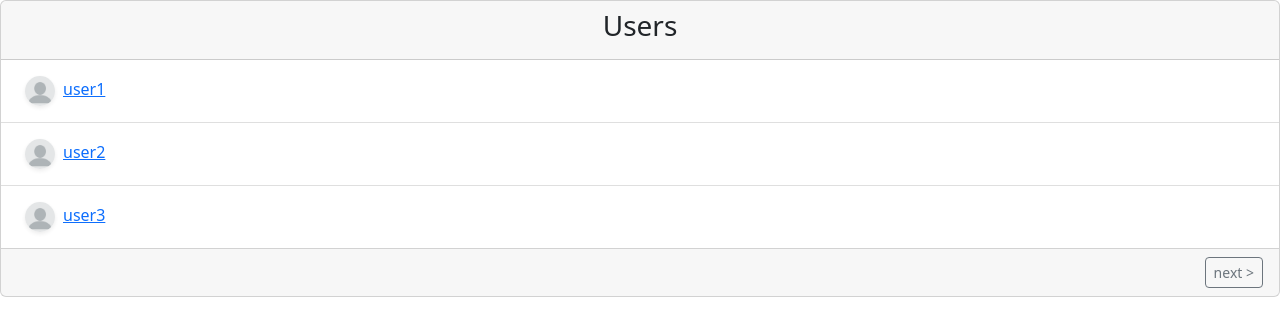
Test case: user List › display the previous page after clicking the previous page link
Expected: the link "user1" is shown, [17, 78, 105, 100]
Click the button "next >" at (1234, 272), box [1205, 257, 1263, 288]
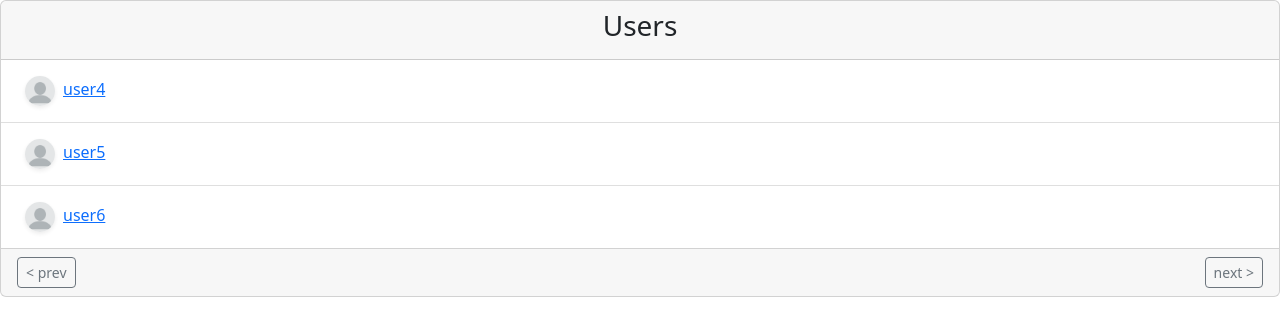
Now the link "user4" is shown, box [17, 78, 105, 100]
Click the button "< prev" at (46, 272), box [17, 257, 76, 288]
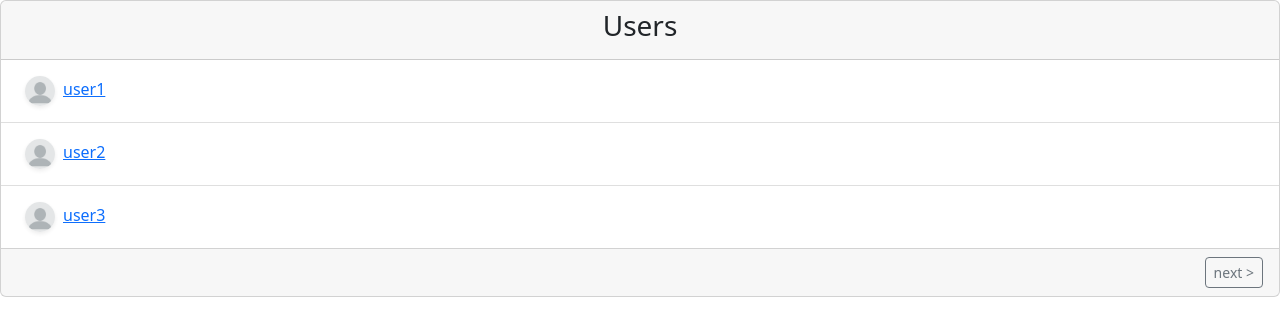
Now the link "user1" is shown, box [17, 78, 105, 100]
